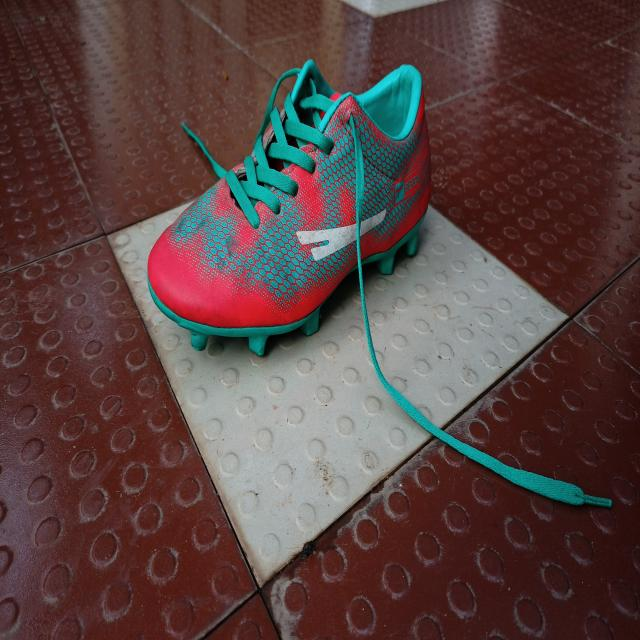shoe: (146, 60, 434, 358)
